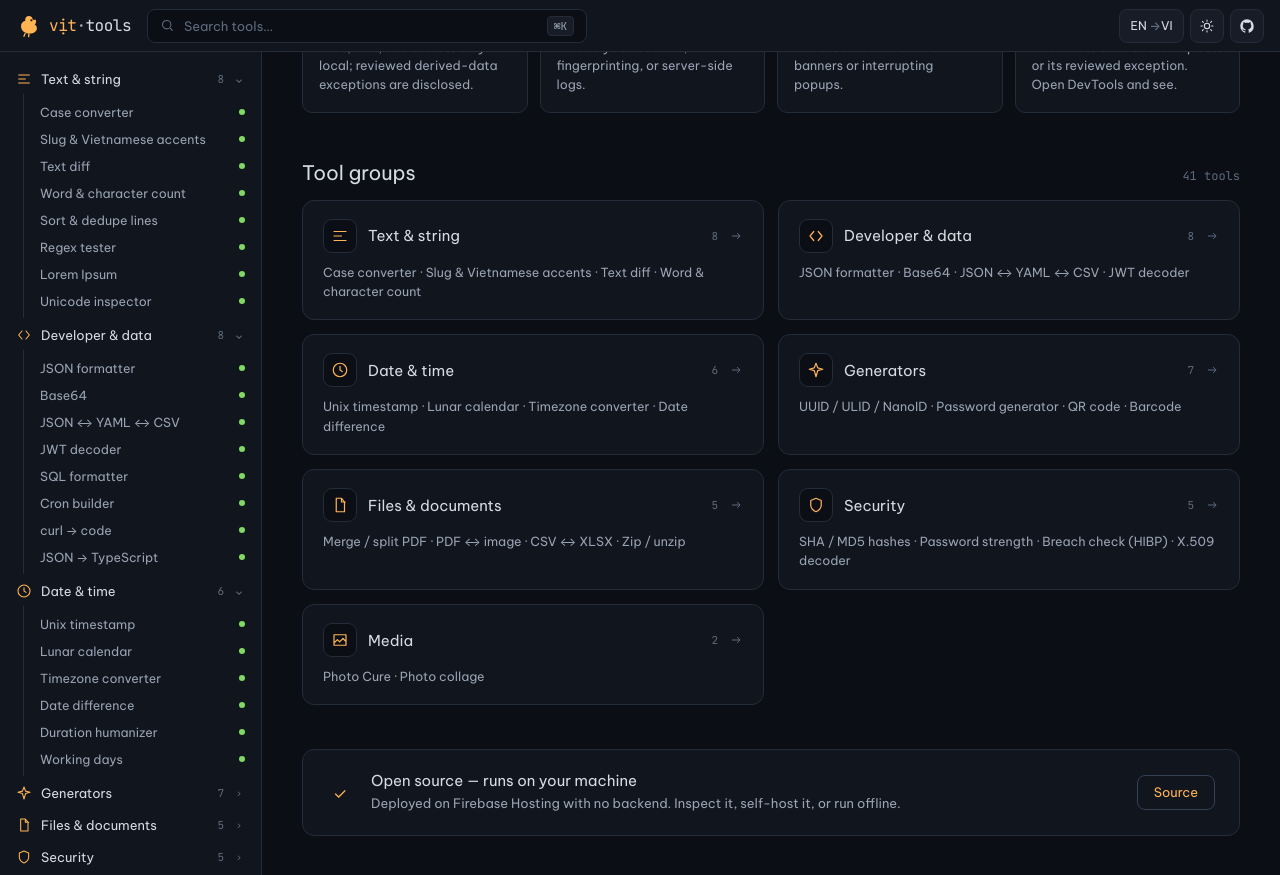
Test: tool platform shell › shows all five offline-ready Files & Documents tools on its group hub
(page scrolled)
Click the link "Files & documents".
click(340, 505)  # box [302, 469, 764, 590]
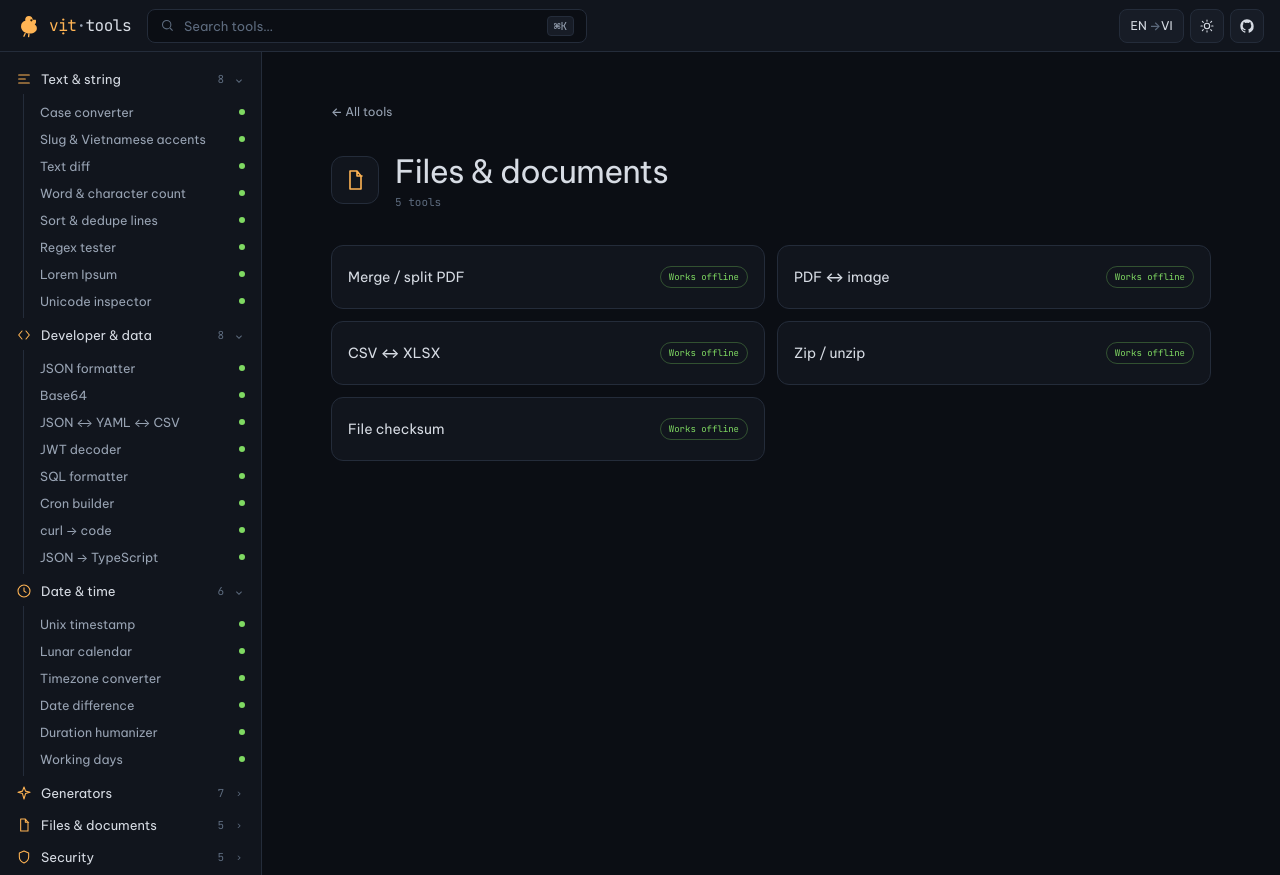
Expected: the heading "Files & documents" is shown, [395, 151, 668, 191]
Expected: the text "Works offline" is shown 5 times, [660, 266, 748, 288]; [1106, 266, 1194, 288]; [660, 342, 748, 364]; [1106, 342, 1194, 364]; [660, 418, 748, 440]
